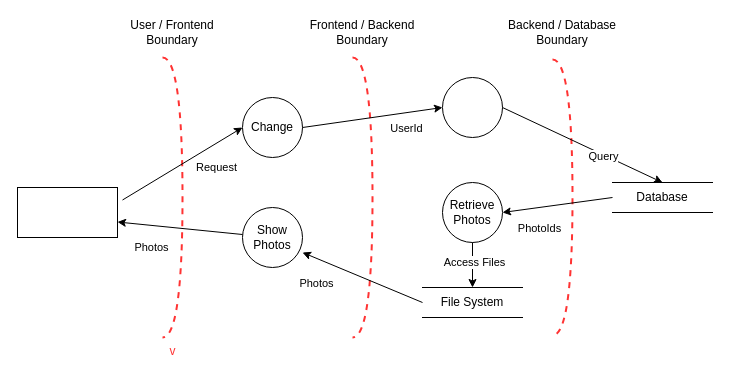
Image size: 730x375. Some labels were removed from this diagram. Here are the shapes that lost their labels. From the top down, the centre of each, then its label:
At (472,107): "Select Photos".
At (67,212): "Client".
